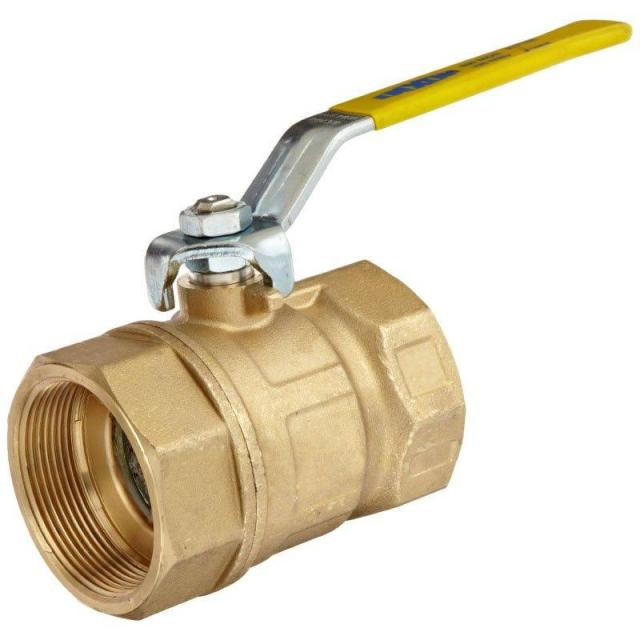Lever Handle Valve Threaded: (119, 7, 635, 336)
